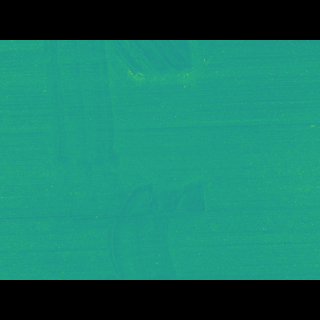Loch: (48, 68, 208, 183), (92, 174, 208, 249)
